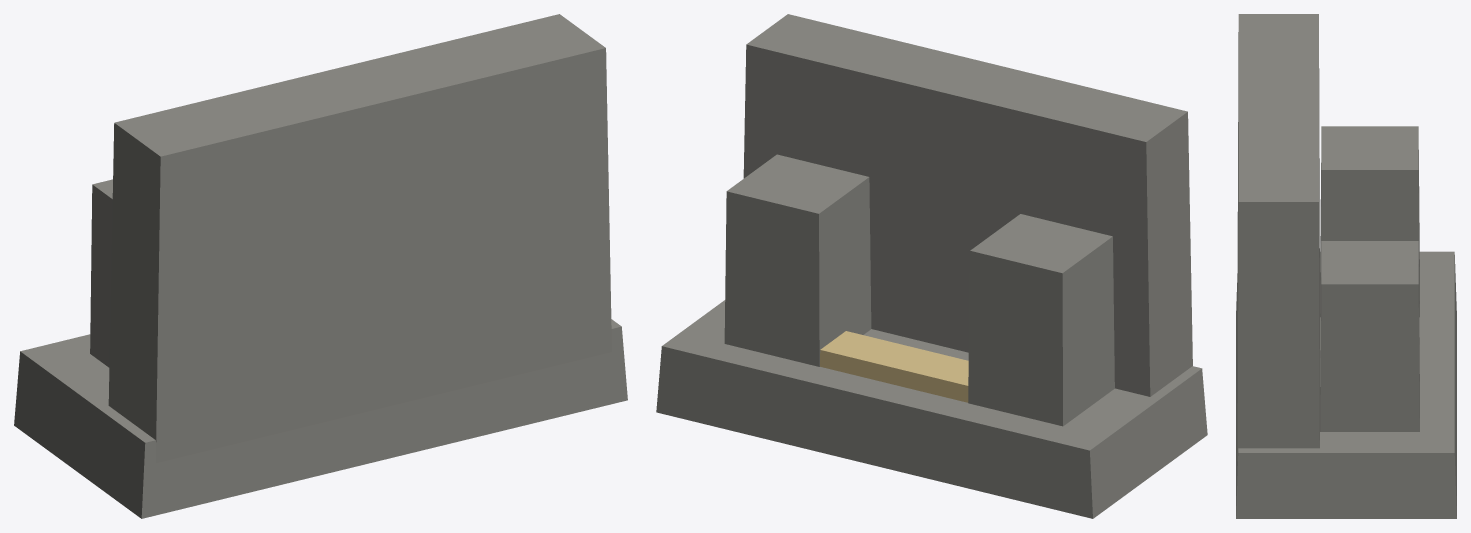
Rendered from hearth_fireplace.glb.
3 views of the same model, side by side, from view 1: azimuth 30°, elevation 25°; view 2: azimuth 150°, elevation 25°; view 3: azimuth 270°, elevation 25° (orthographic). The views are drawn at different scales.
Parts seen in each view (by area): view 1: part_1, part_0, part_2; view 2: part_1, part_0, part_2, part_3, part_4; view 3: part_1, part_0, part_3, part_2.
Boxes of the visible parts, bbox=[...] form: part_1: bbox=[108, 14, 611, 462]; part_0: bbox=[14, 319, 627, 518]; part_2: bbox=[90, 179, 112, 367]; part_1: bbox=[743, 14, 1192, 396]; part_0: bbox=[656, 300, 1207, 518]; part_2: bbox=[968, 214, 1114, 426]; part_3: bbox=[724, 154, 871, 366]; part_4: bbox=[820, 331, 968, 402]; part_1: bbox=[1237, 14, 1319, 460]; part_0: bbox=[1236, 251, 1456, 518]; part_3: bbox=[1320, 241, 1419, 431]; part_2: bbox=[1320, 126, 1419, 317].
Bounding box in the file's own units: 1.65 × 1.15 × 0.75.
